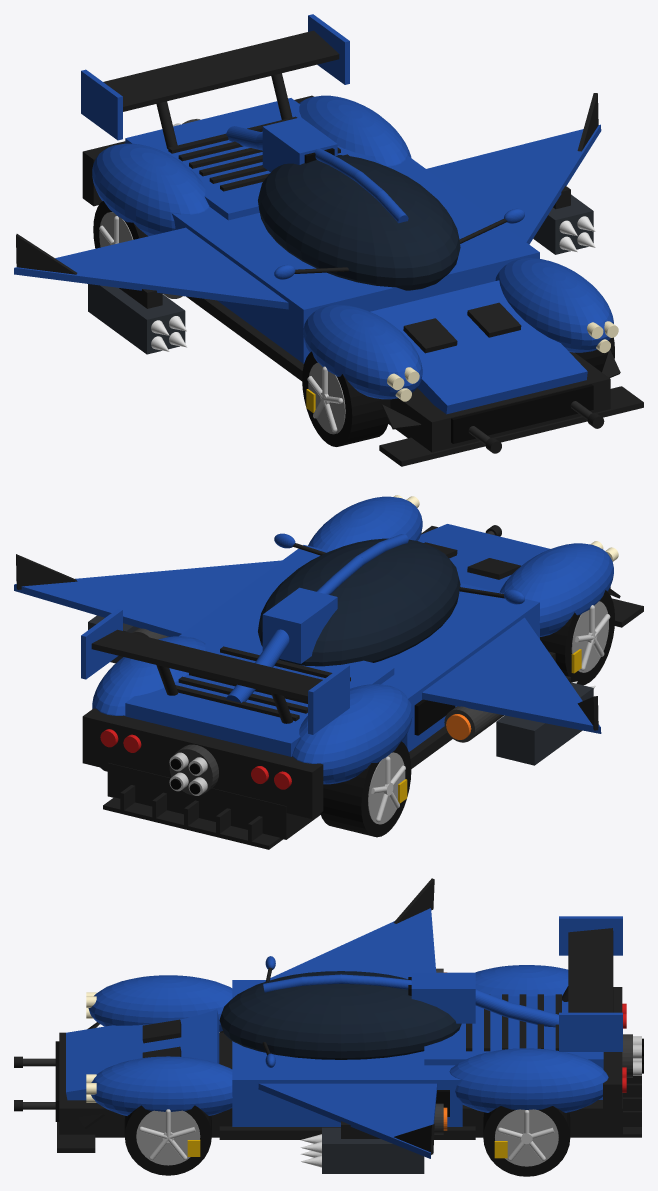
The model's file is flying_car.glb.
The picture shows the model from 3 angles, top to bottom: view 1: azimuth 30°, elevation 25°; view 2: azimuth 150°, elevation 25°; view 3: azimuth 270°, elevation 25°; orthographic projection. The views are drawn at different scales.
Parts seen in each view (by area): view 1: canopy, side_body, hood, flight_wing_l, flight_wing_r, wing, fender_fl, fender_rl, fender_fr, rear_deck, floor, fender_rr (+14 smaller); view 2: canopy, side_body, rear_panel, flight_wing_l, flight_wing_r, rear_deck, fender_rl, fender_fl, wing, floor, fender_fr, hood (+22 smaller); view 3: canopy, side_body, fender_rr, fender_fr, flight_wing_r, hood, fender_fl, flight_wing_l, floor, rear_deck, wing, launcher_r (+16 smaller).
Part boxes in pixels (bbox=[...]): canopy: bbox=[258, 155, 460, 290]; side_body: bbox=[172, 156, 539, 363]; hood: bbox=[370, 280, 587, 414]; flight_wing_l: bbox=[14, 227, 288, 309]; flight_wing_r: bbox=[426, 124, 601, 244]; wing: bbox=[103, 30, 339, 111]; fender_fl: bbox=[303, 304, 422, 399]; fender_rl: bbox=[92, 143, 209, 235]; fender_fr: bbox=[495, 258, 613, 352]; rear_deck: bbox=[125, 98, 382, 220]; floor: bbox=[388, 352, 610, 452]; fender_rr: bbox=[299, 95, 411, 166]; canopy: bbox=[258, 538, 460, 666]; side_body: bbox=[179, 545, 539, 751]; rear_panel: bbox=[82, 708, 323, 818]; flight_wing_l: bbox=[422, 617, 601, 733]; flight_wing_r: bbox=[14, 560, 281, 636]; rear_deck: bbox=[125, 627, 394, 756]; fender_rl: bbox=[292, 684, 412, 784]; fender_fl: bbox=[499, 543, 613, 636]; wing: bbox=[91, 629, 322, 701]; floor: bbox=[107, 526, 610, 839]; fender_fr: bbox=[308, 496, 422, 551]; hood: bbox=[418, 524, 549, 592]; canopy: bbox=[219, 971, 461, 1059]; side_body: bbox=[232, 980, 462, 1126]; fender_rr: bbox=[449, 1048, 608, 1112]; fender_fr: bbox=[91, 1056, 232, 1115]; flight_wing_r: bbox=[258, 1083, 437, 1158]; hood: bbox=[66, 1009, 219, 1100]; fender_fl: bbox=[88, 975, 232, 1031]; flight_wing_l: bbox=[270, 908, 436, 979]; floor: bbox=[59, 1032, 622, 1137]; rear_deck: bbox=[424, 994, 603, 1099]; wing: bbox=[568, 928, 613, 1012]; launcher_r: bbox=[322, 1127, 424, 1173].
Size of the model in its own units: 4.6 by 1.33 by 4.92.
